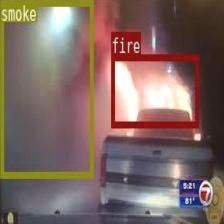fire: (111, 54, 198, 126)
smoke: (0, 0, 93, 177)
